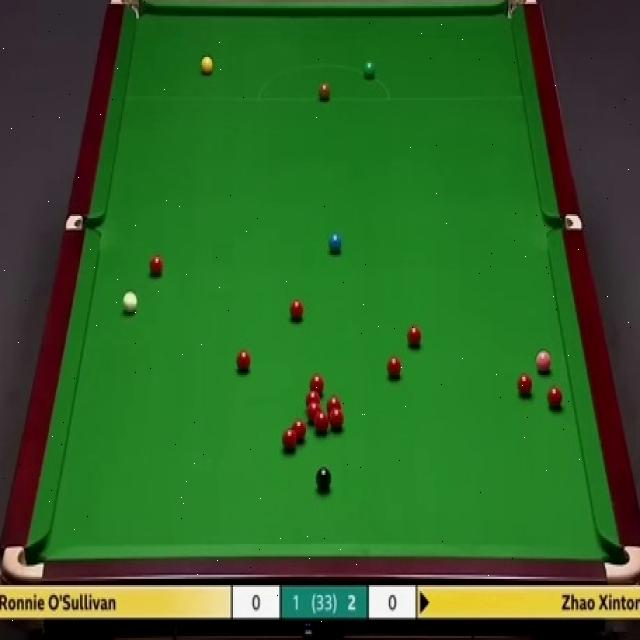black-ball: (315, 465, 332, 495)
blue-ball: (328, 231, 343, 253)
brown-ball: (318, 81, 331, 102)
green-ball: (362, 61, 376, 80)
pink-ball: (536, 348, 552, 374)
red-ball: (235, 348, 252, 376), (281, 428, 298, 454), (292, 421, 309, 446), (518, 373, 535, 398), (547, 386, 565, 409), (328, 408, 344, 433), (386, 356, 401, 381), (147, 254, 164, 276), (289, 300, 305, 322), (408, 324, 422, 349), (315, 411, 328, 434), (308, 374, 325, 391), (307, 403, 321, 422), (306, 390, 320, 406), (327, 398, 341, 412)
white-ball: (119, 289, 139, 316)
yellow-ball: (201, 57, 215, 77)
